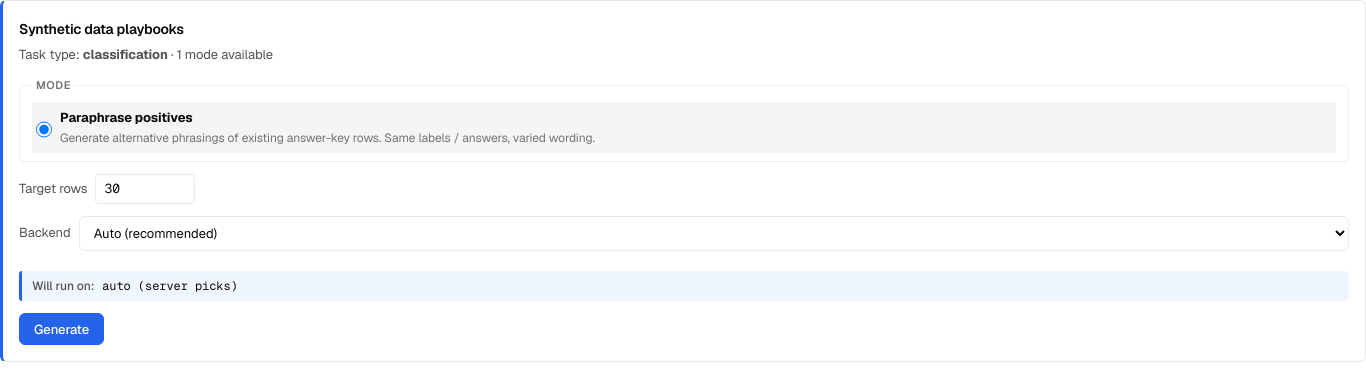
Test case: PlaybookPickerPanel › labels a selected subscription CLI backend with its billing and detail
The image size is (1366, 381).
Select "command · subscription" in the dropdown with test id "playbook-picker-backend" at (714, 233), box 79,216 -> 1349,251
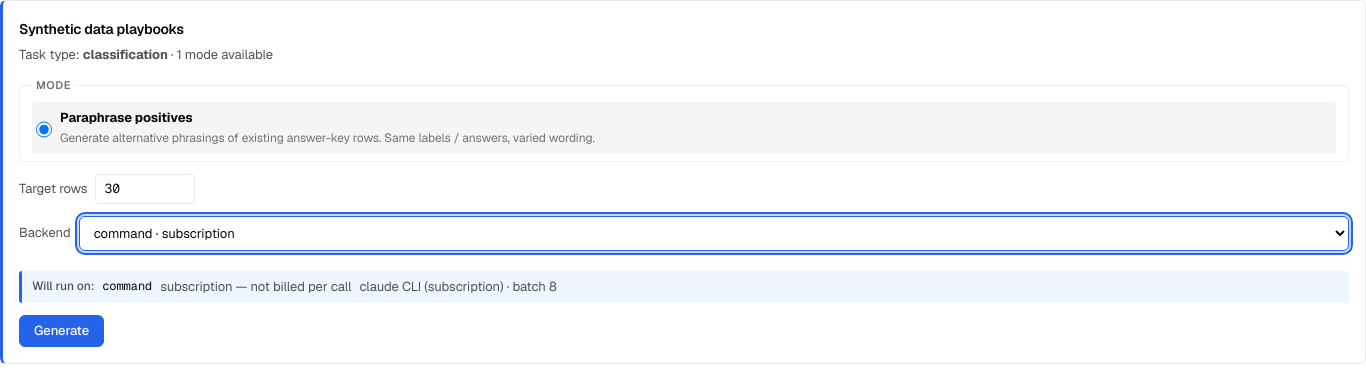
Now the text with test id "playbook-picker-subscription-chip" shows "not billed per call", box 160,278 -> 351,295
Now the text with test id "playbook-picker-backend-detail" shows "claude CLI", box 359,278 -> 557,295
